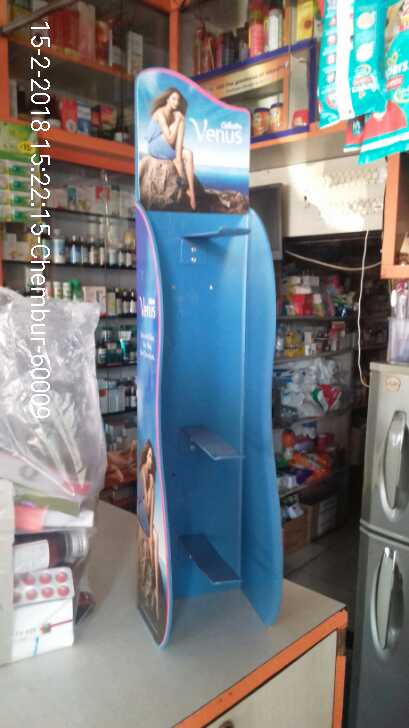reject: (178, 212, 282, 320)
